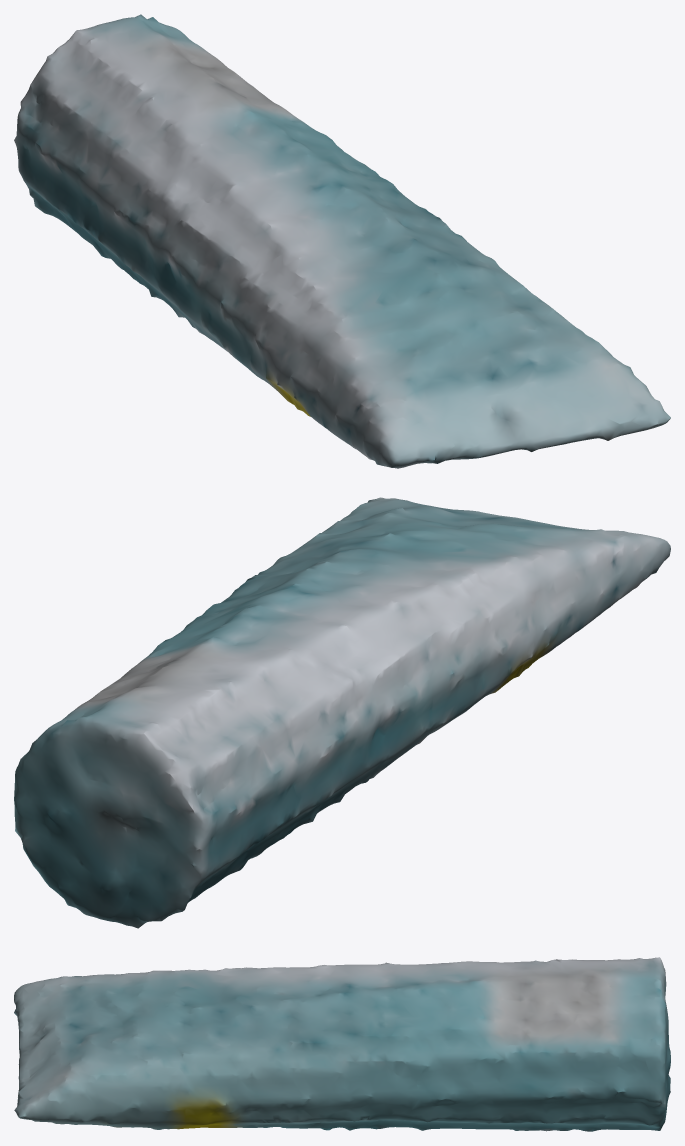
Rendered from oil.glb.
3 renders of one model, top to bottom at view 1: azimuth 30°, elevation 25°; view 2: azimuth 150°, elevation 25°; view 3: azimuth 270°, elevation 25°, orthographic. The views are drawn at different scales.
Bounding box in the file's own units: 0.379 × 0.2535 × 0.9944.
